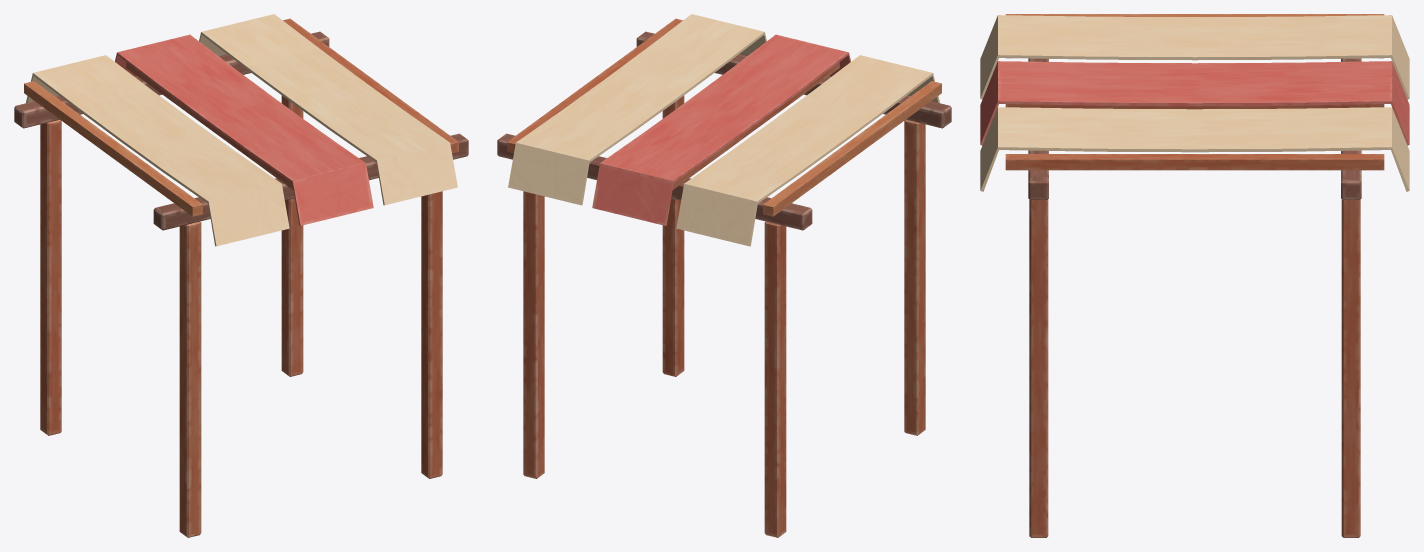
The model's file is pergola.fbx.
3 views of the same model, side by side, from view 1: azimuth 30°, elevation 25°; view 2: azimuth 150°, elevation 25°; view 3: azimuth 270°, elevation 25° (orthographic). The views are drawn at different scales.
Visible parts, largest first — view 1: pergola; view 2: pergola; view 3: pergola.
Part boxes in pixels (x1,y1,x2,y2): pergola: (14,14,468,537); pergola: (497,14,951,537); pergola: (980,14,1409,537).
Bounding box in the file's own units: 8.4 × 9.03 × 9.07.
Materials: 1 (1 with a texture image).
